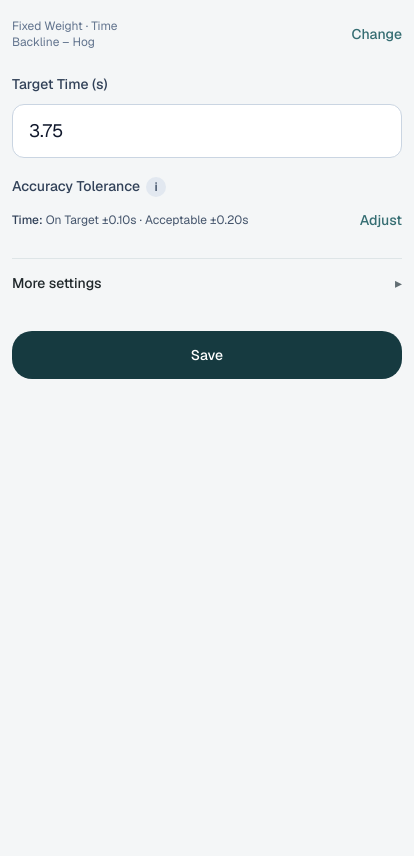
Test: reopening a configuration preserves its exact values › still renders an exactly-two-decimal value in its familiar form
The image size is (414, 856).
Click the button "Change" at (377, 34), box [352,12,402,56]
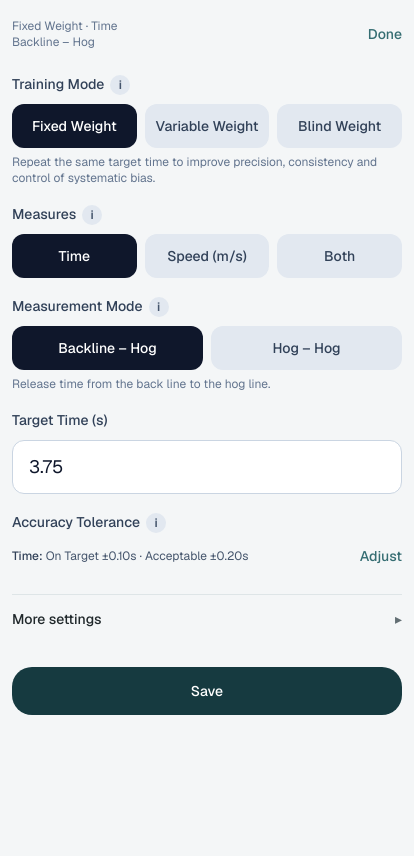
Click the button "Adjust" at (381, 556), box [360,534,402,578]
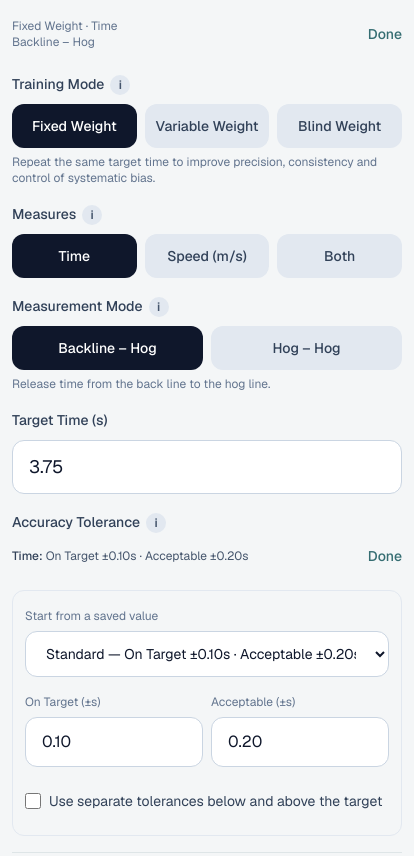
Check: the field labelled "On Target (±s)" holds "0.10", box [25,717,203,767]
